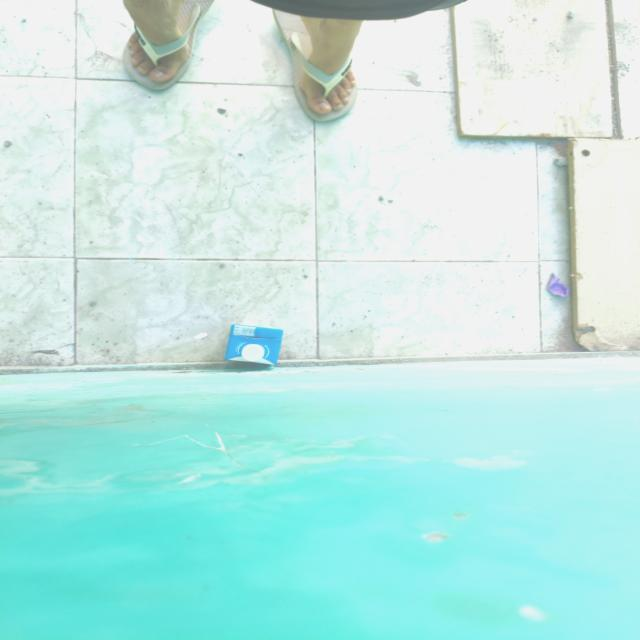Caixa de Leite: (225, 323, 285, 366)
